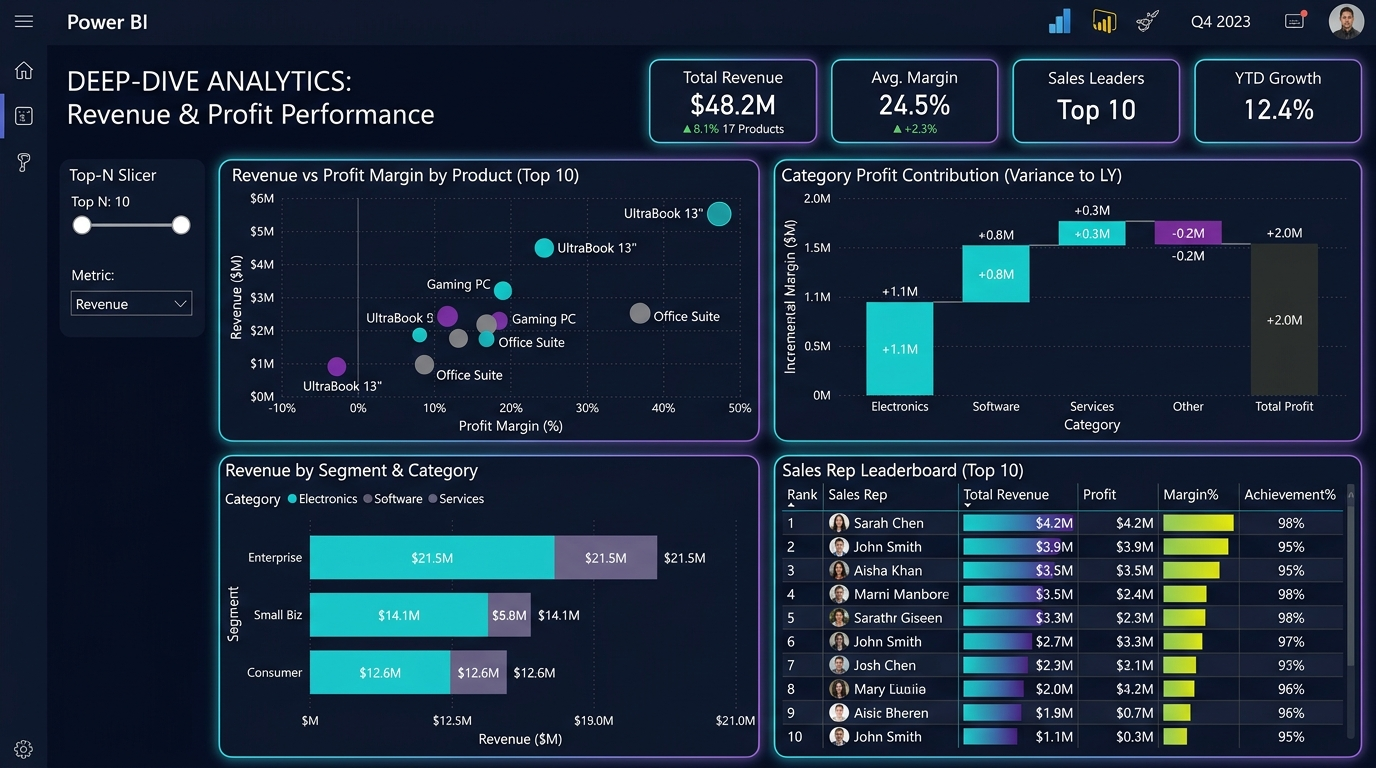

The dashboard page shown, as its layout file describes it:
{"tool":"powerbi","page":{"name":"Deep-Dive Analysis","canvas":[1280,720],"ordinal":1},"visuals":[{"type":"textbox","box":[0,0,146,720],"z":100},{"type":"textbox","box":[10,14,130,34],"z":200},{"type":"textbox","box":[10,46,130,24],"z":300},{"type":"card","fields":{"Values":["_Measures.Deep Dive Title"]},"box":[160,8,1100,46],"z":500},{"type":"slicer","fields":{"Values":["DimDate.Year"]},"box":[160,58,330,46],"z":600},{"type":"slicer","fields":{"Values":["DimProduct.Category"]},"box":[498,58,250,46],"z":700},{"type":"slicer","fields":{"Values":["DimCustomer.Segment"]},"box":[756,58,250,46],"z":800},{"type":"slicer","fields":{"Values":["DimRegion.Region"]},"box":[1014,58,250,46],"z":900},{"type":"scatterChart","title":"Product performance: revenue vs margin (bubble = units)","fields":{"Category":["DimProduct.ProductName"],"Size":["_Measures.Units Sold"],"X":["_Measures.Total Revenue"],"Y":["_Measures.Profit Margin %"]},"box":[160,112,540,306],"z":1000},{"type":"waterfallChart","title":"Profit contribution by category","fields":{"Category":["DimProduct.Category"],"Y":["_Measures.Total Profit"]},"box":[710,112,554,306],"z":1100},{"type":"barChart","title":"Revenue by category and segment","fields":{"Category":["DimProduct.Category"],"Series":["DimCustomer.Segment"],"Y":["_Measures.Total Revenue"]},"box":[160,428,360,282],"z":1200},{"type":"tableEx","title":"Sales rep leaderboard","fields":{"Values":["DimSalesRep.RepName","_Measures.Total Revenue","_Measures.Profit Margin %","_Measures.Total Orders","_Measures.SalesRep Revenue Rank"]},"box":[530,428,420,282],"z":1300},{"type":"slicer","fields":{"Values":["TopN.TopN"]},"box":[960,428,304,44],"z":1400},{"type":"clusteredBarChart","title":"Top-N products (choose N above)","fields":{"Category":["DimProduct.ProductName"],"Y":["_Measures.Total Revenue"]},"box":[960,478,304,232],"z":1500},{"type":"pageNavigator","box":[0,70.2,138.1,602.4],"z":1501}]}

Visuals, with their boxes on the page's 1280x720 design canvas (x1, y1, x2, y2). These are canvas units, not pixel positions in the 1376x768 screenshot, which may show the page scaled, cropped or inside an application window:
textbox: detection(0, 0, 146, 720)
textbox: detection(10, 14, 140, 48)
textbox: detection(10, 46, 140, 70)
card - _Measures.Deep Dive Title: detection(160, 8, 1260, 54)
slicer - DimDate.Year: detection(160, 58, 490, 104)
slicer - DimProduct.Category: detection(498, 58, 748, 104)
slicer - DimCustomer.Segment: detection(756, 58, 1006, 104)
slicer - DimRegion.Region: detection(1014, 58, 1264, 104)
"Product performance: revenue vs margin (bubble = units)" scatterChart: detection(160, 112, 700, 418)
"Profit contribution by category" waterfallChart: detection(710, 112, 1264, 418)
"Revenue by category and segment" barChart: detection(160, 428, 520, 710)
"Sales rep leaderboard" tableEx: detection(530, 428, 950, 710)
slicer - TopN.TopN: detection(960, 428, 1264, 472)
"Top-N products (choose N above)" clusteredBarChart: detection(960, 478, 1264, 710)
pageNavigator: detection(0, 70, 138, 673)
